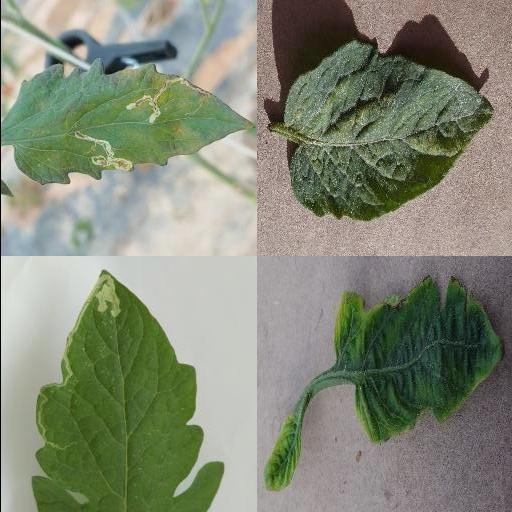Leaf Miner: (30, 268, 224, 512), (0, 57, 255, 186)
Spider Mites: (283, 42, 493, 222)
Yellow Leaf Curl Virus: (331, 275, 503, 445), (262, 414, 304, 492)
